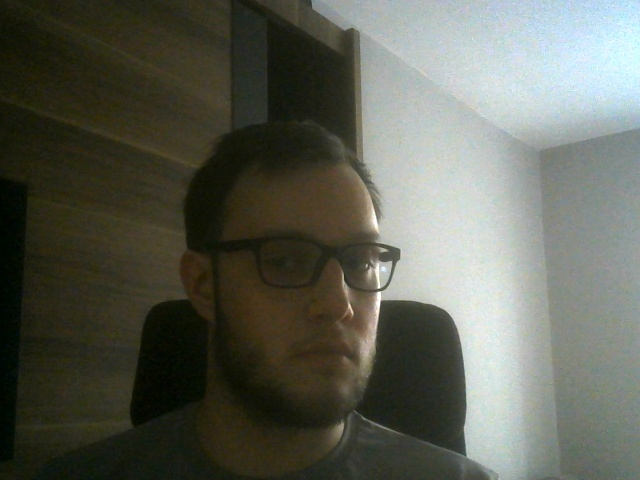neutral: (180, 120, 403, 428)
